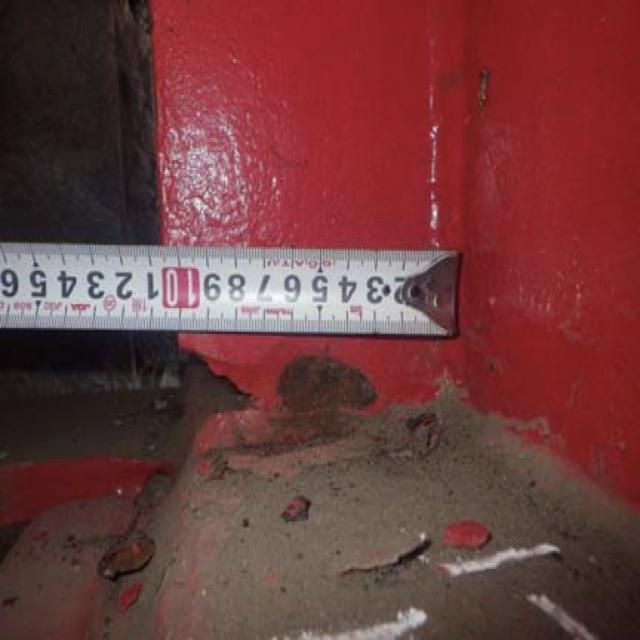corrosion: (160, 333, 479, 454)
